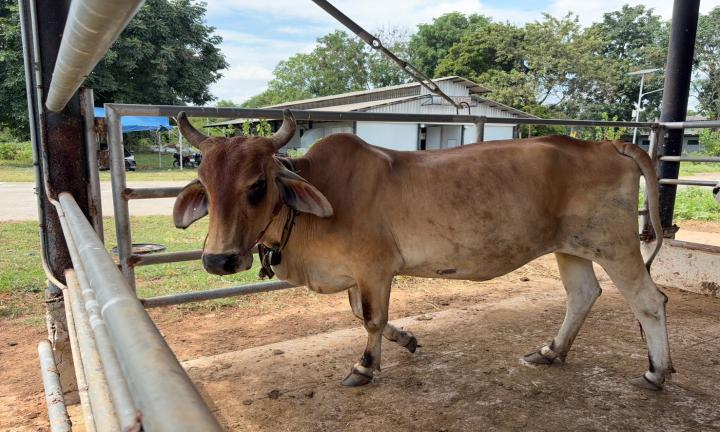Brahman: (174, 110, 674, 388)
